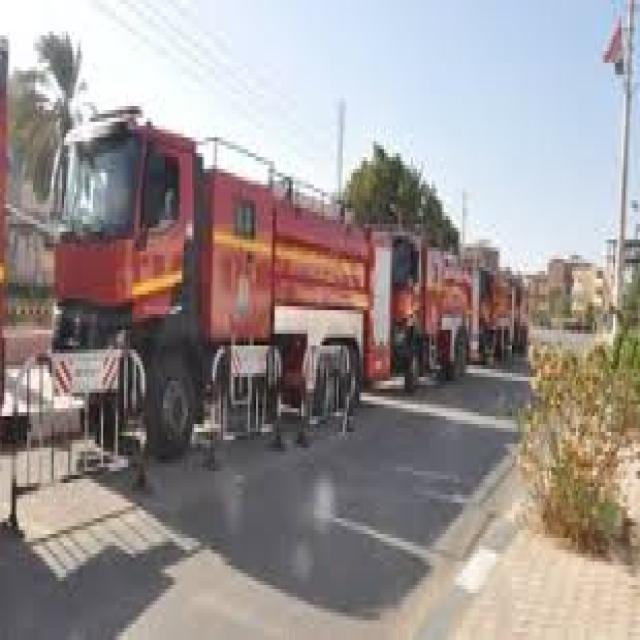emergency: (56, 96, 412, 470), (390, 208, 470, 402), (468, 220, 542, 372)
